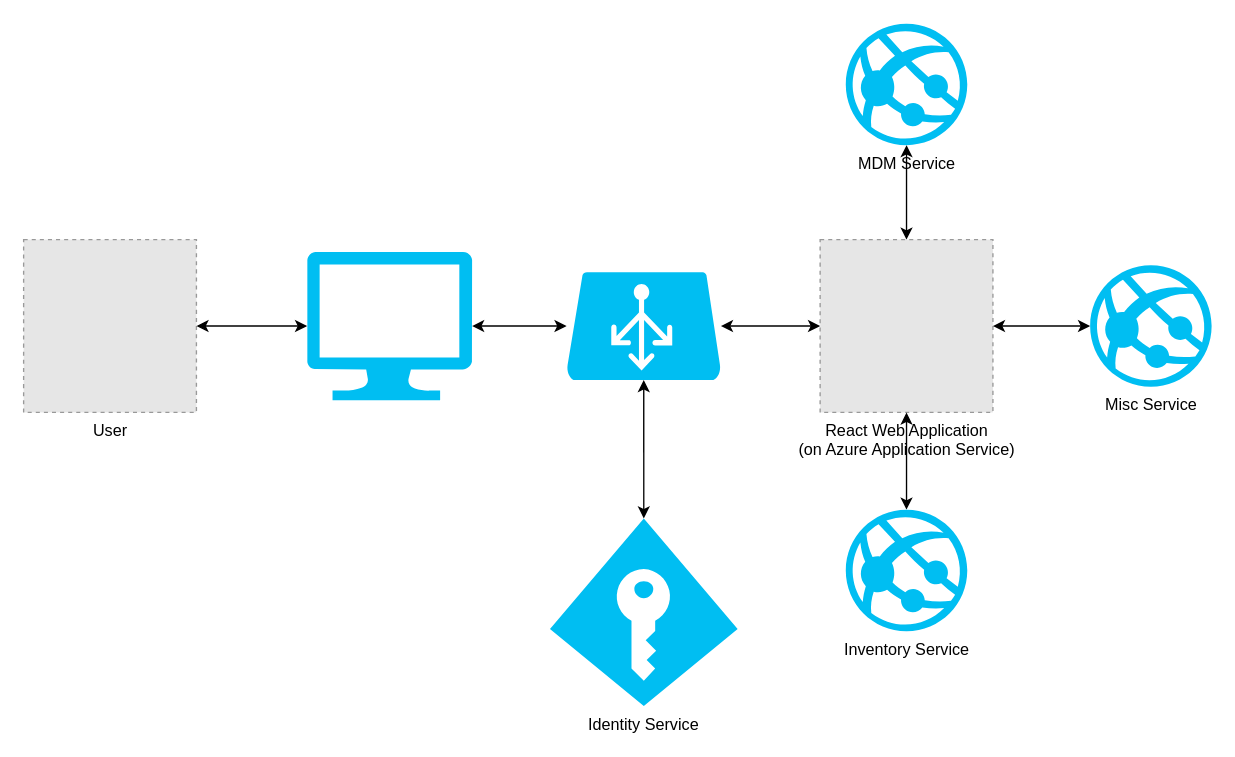
The diagram is 1235 pixels wide and 757 high, and some of its shapes have lost their labels. Grey dashed boxes stand in for pictures. The centre of each missing label's shape, as x and y in pixels:
"Azure API Gateway" goes at [643,325].
"Client Browser" goes at [388,325].
